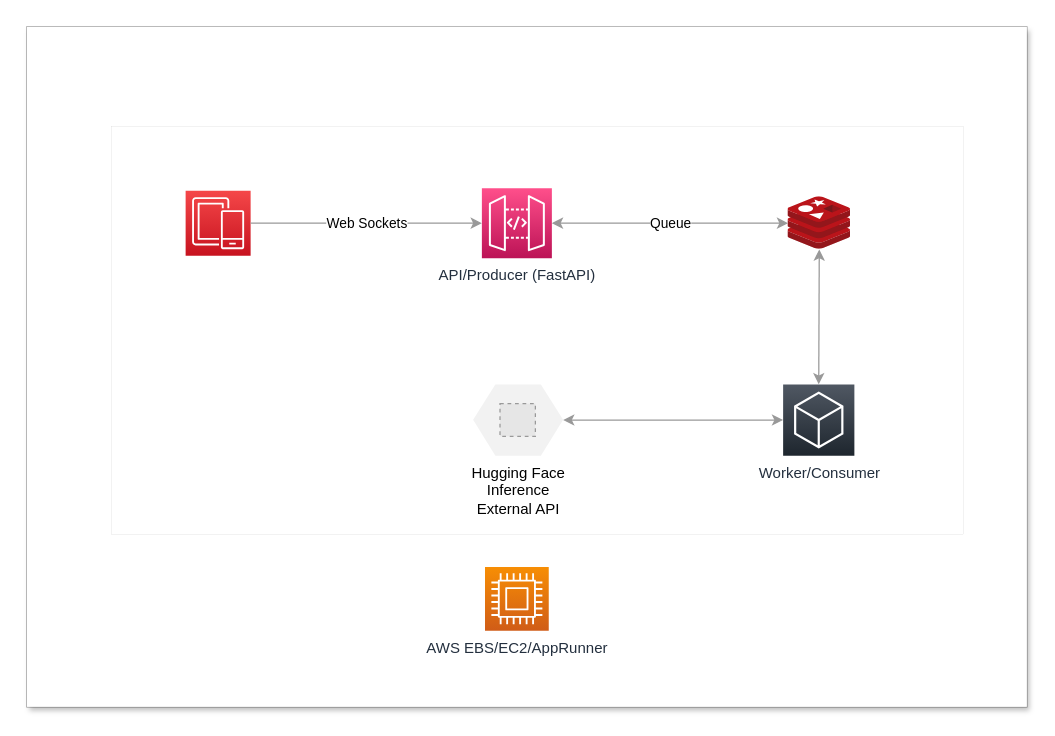
This 1055x736 diagram has some shape labels left out. Grey dashed boxes stand in for pictures. The shapes that lost their labels are listed below. From the top down, each one's centre as x and y in pixels, then its label:
At (217,222): "Client/User".
At (819,222): "Redis/ Redis JSON/ Messaging Service".
